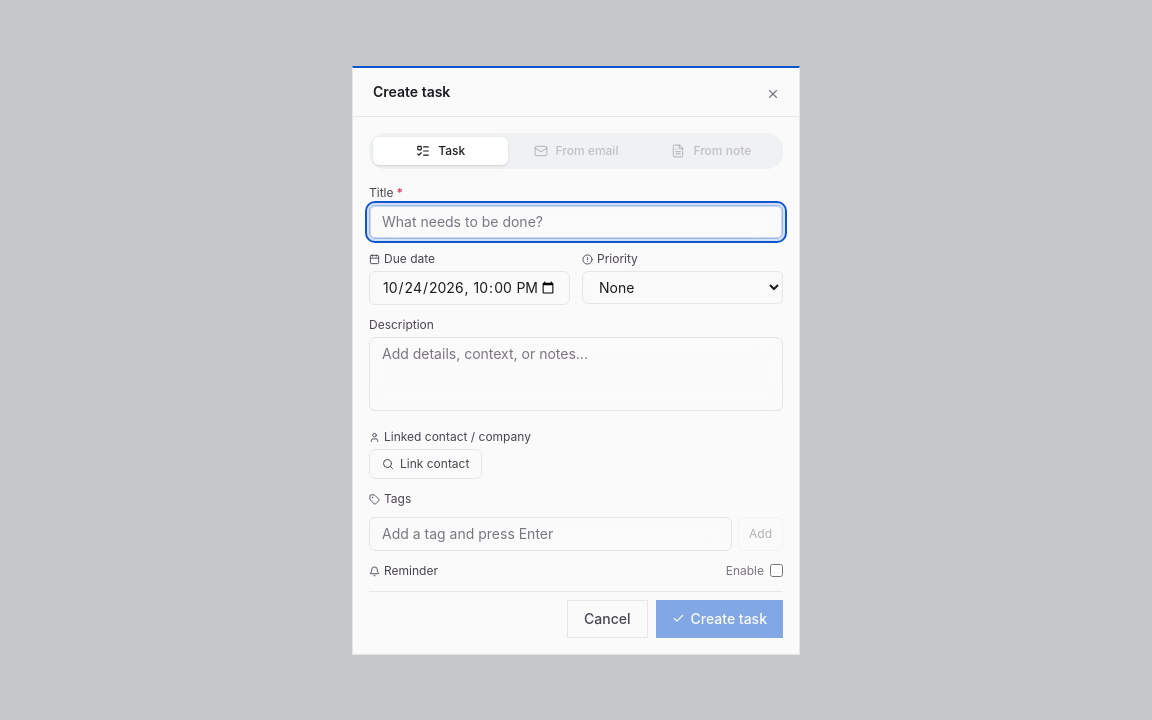
Test: TaskCreateModal › removes a tag when clicking the X button
The image size is (1152, 720).
Type "remove-me" into the field with placeholder "Add a tag and press Enter". click: (550, 534)
box: left=369, top=516, right=732, bottom=550
Then press Enter
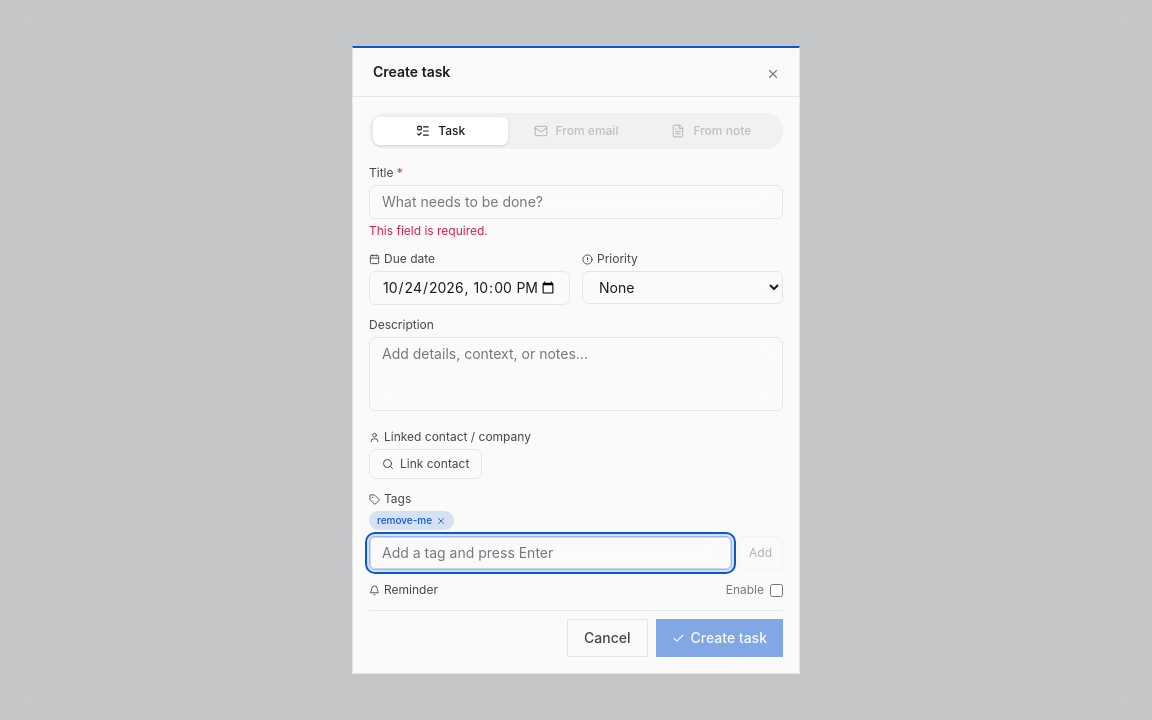
Now the text "remove-me" is shown, box left=369, top=511, right=454, bottom=530
Click the button named "Remove tag remove-me". click: click(441, 520)
box: left=436, top=516, right=446, bottom=526
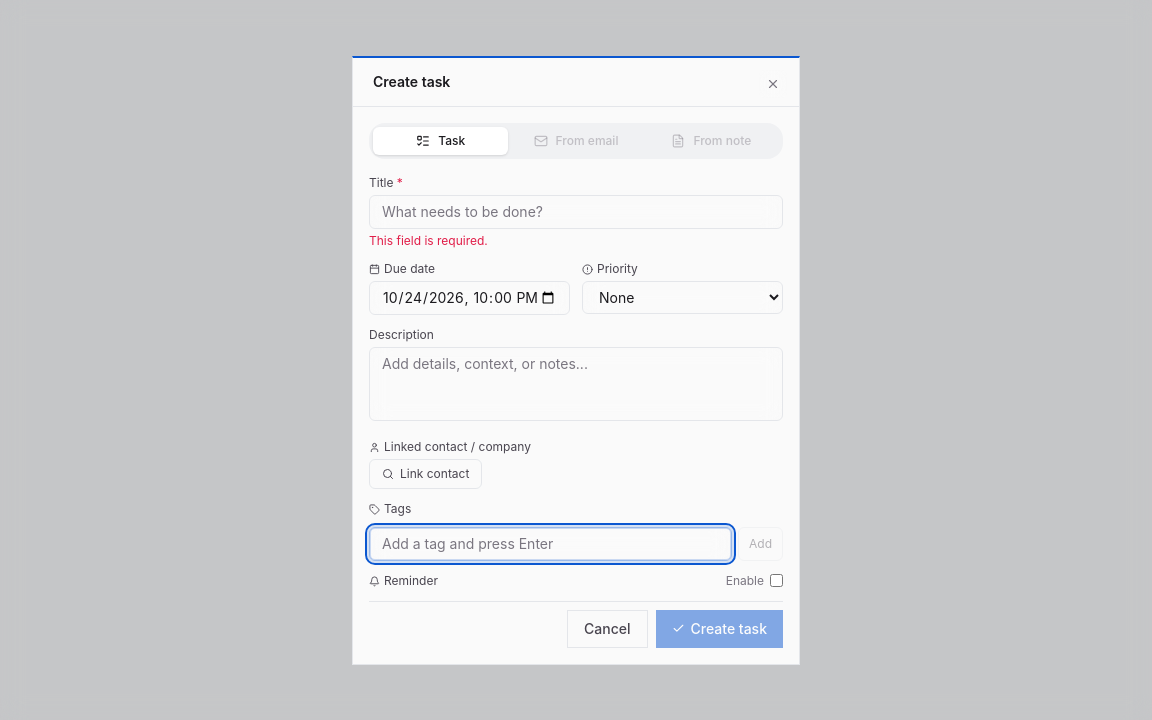
Now the text "remove-me" is gone
